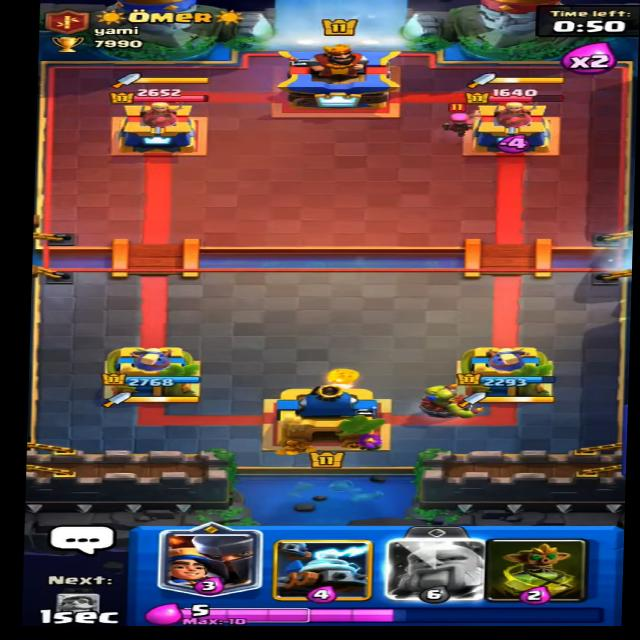firecracker: (422, 101, 482, 138)
